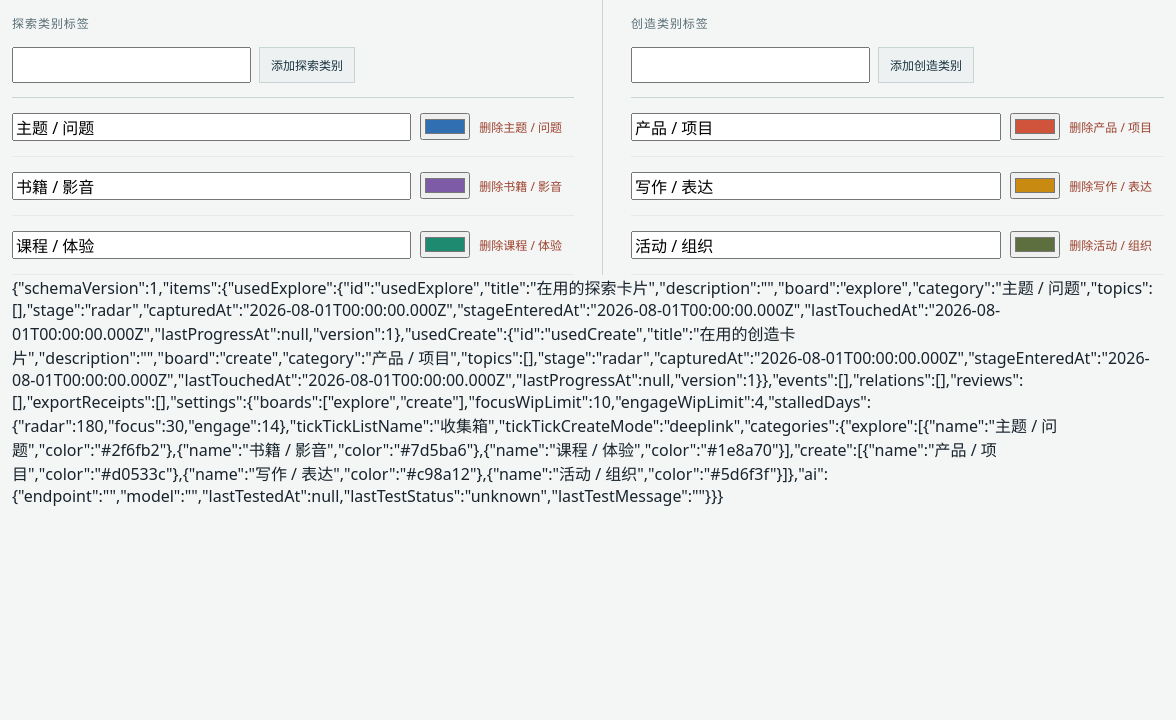
Test: CategoryManager › adds a trimmed category to its own board
Step 1. Type "  新发现  " into the field named "新增探索类别" → {"x": 132, "y": 65}, box left=12, top=47, right=251, bottom=83
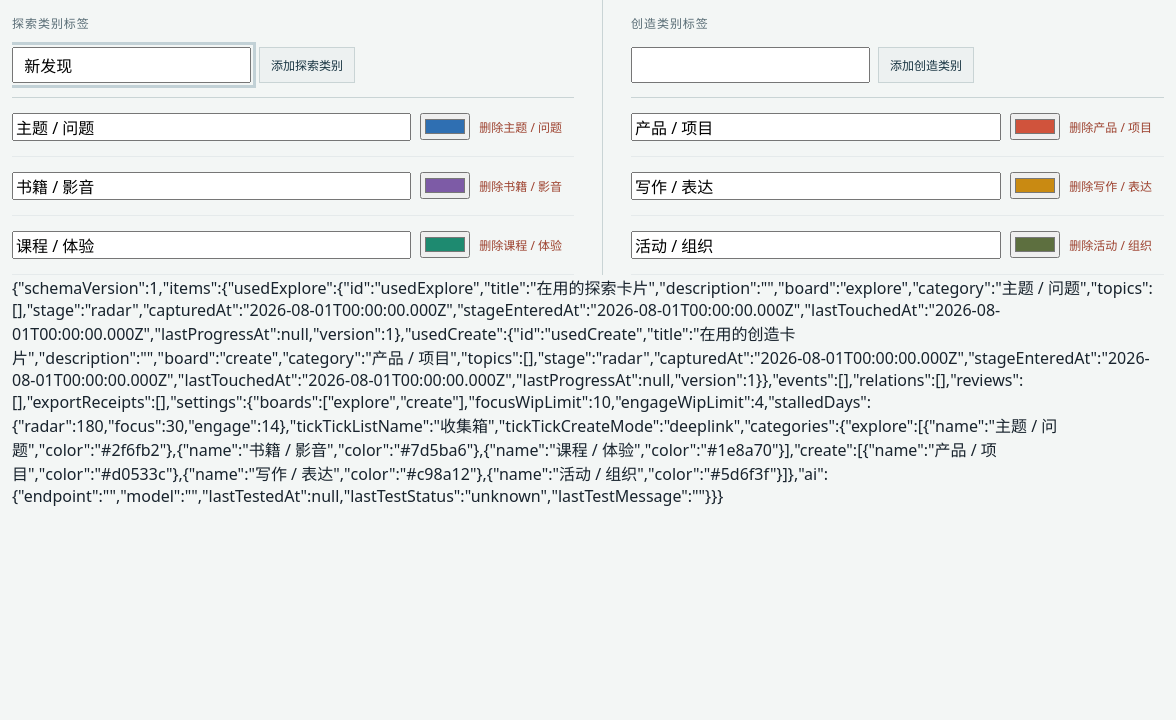
Step 2. Click the button "添加探索类别" → {"x": 307, "y": 65}, box left=259, top=47, right=355, bottom=83
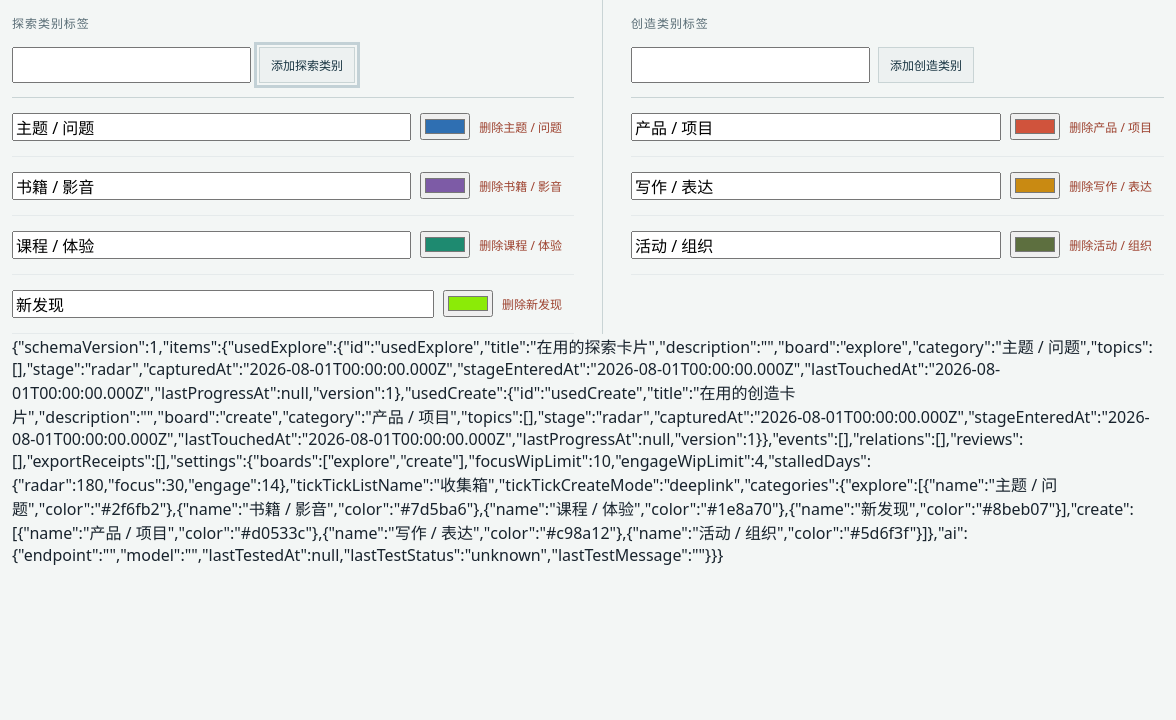
Now the field named "探索类别名称：新发现" holds "新发现", box left=12, top=290, right=434, bottom=318
